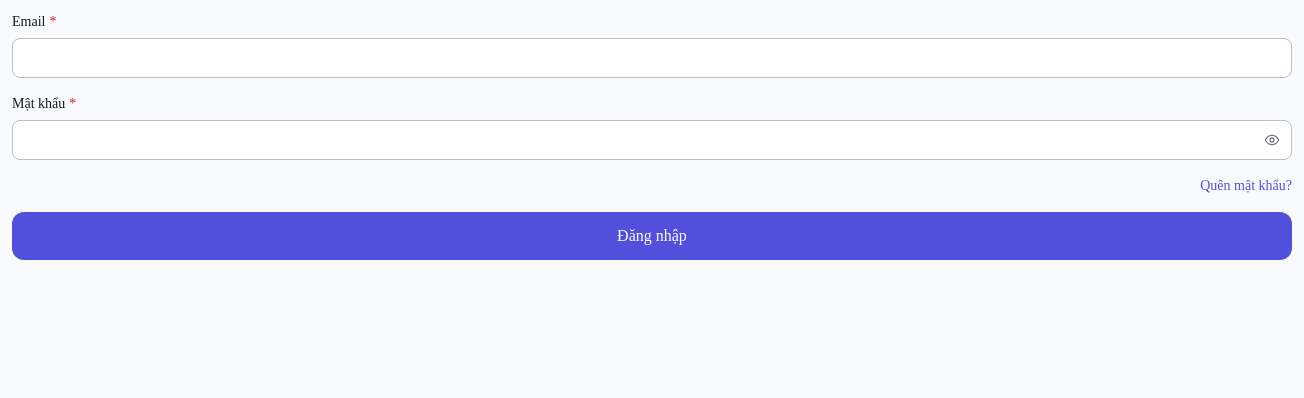
Test: LoginForm › offers to resend the verification email for unverified accounts
The width and height of the screenshot is (1304, 398).
Type "minh@example.com" into the field labelled "Email *" at (652, 58), box [12,38,1292,78]
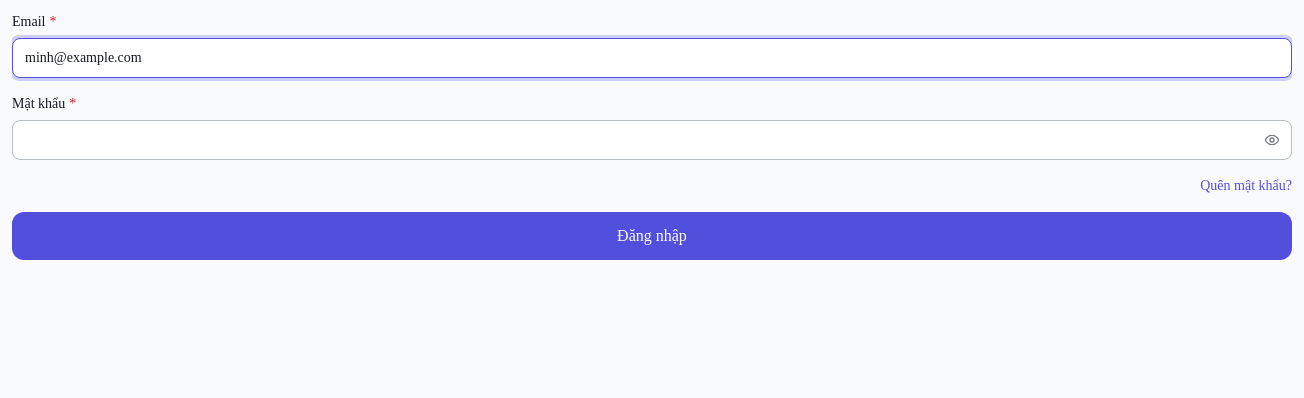
Type "leap2026" into the password field labelled "Mật khẩu *" at (652, 140), box [12,120,1292,160]
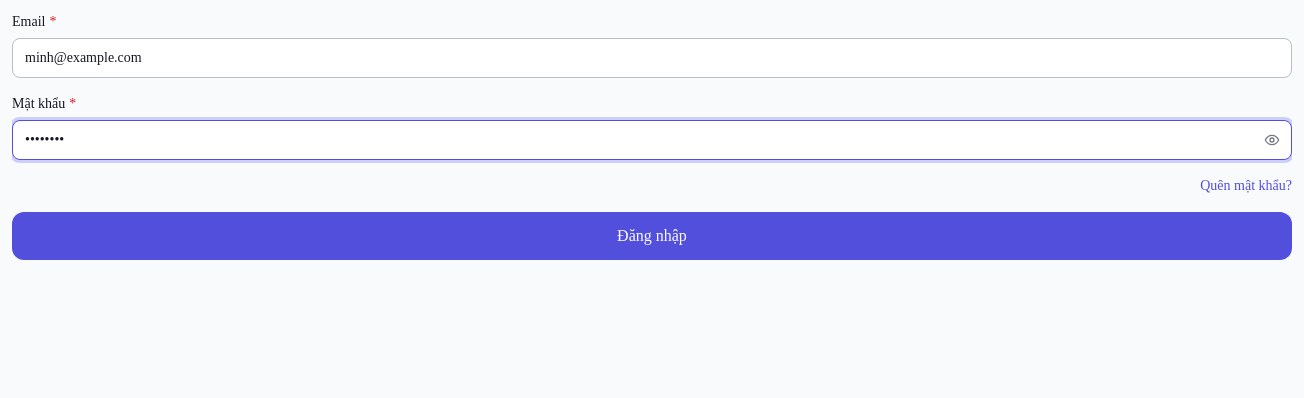
Click the button "Đăng nhập" at (652, 236), box [12,212,1292,260]
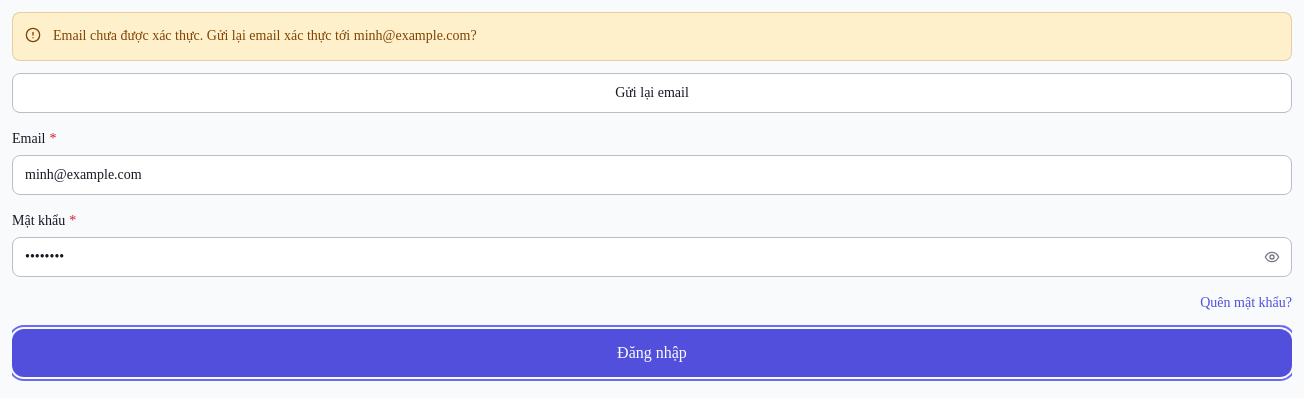
Now the text "Email chưa được xác thực" shows "minh@example.com", box [53,28,477,43]
Now the button "Gửi lại email" is enabled, box [12,73,1292,113]
